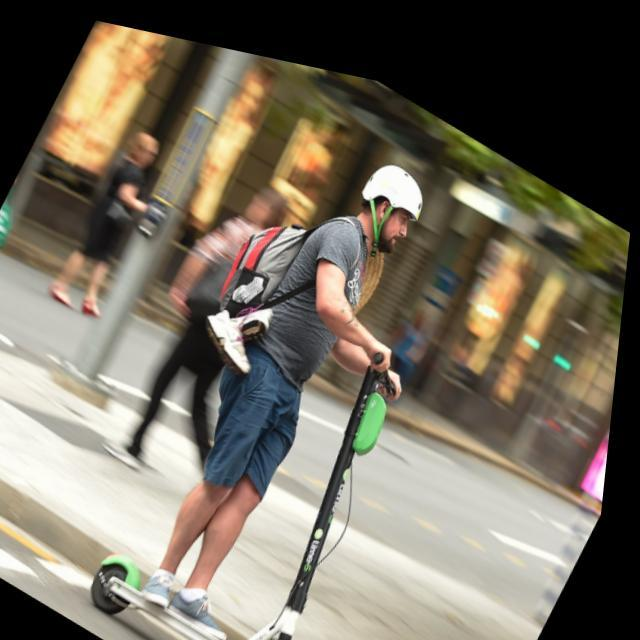Helmet: (350, 155, 425, 266)
